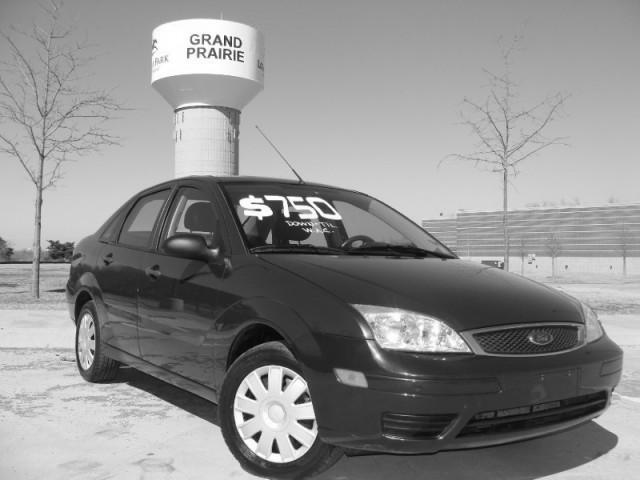car: (67, 177, 626, 480)
